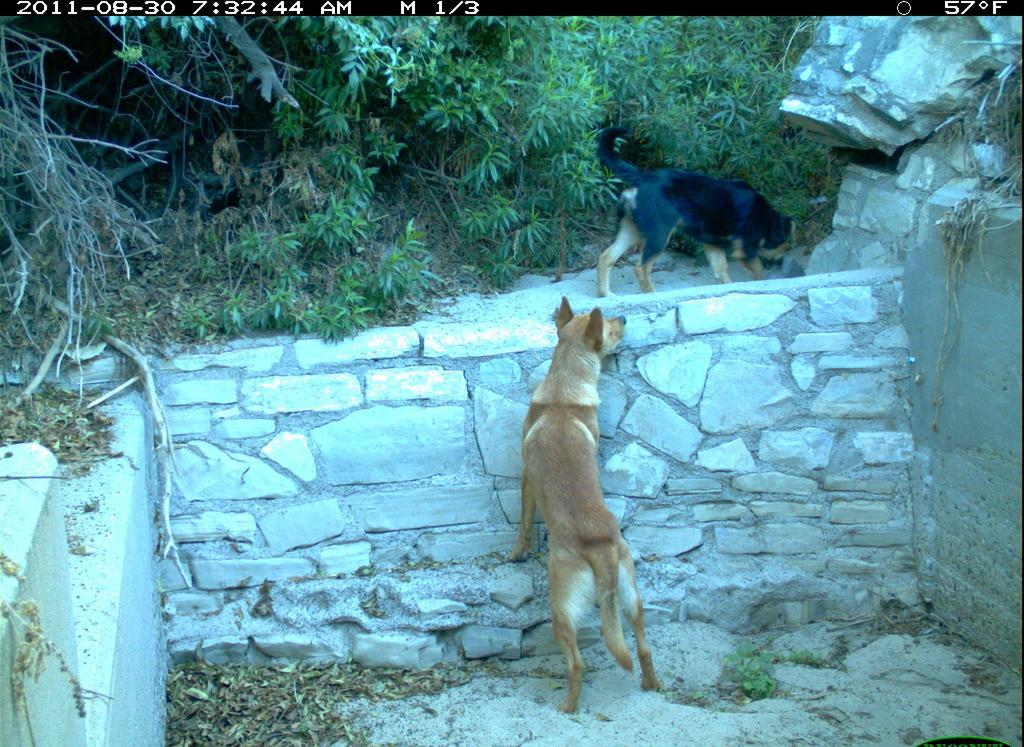dog: (502, 294, 673, 729), (591, 114, 804, 303)
